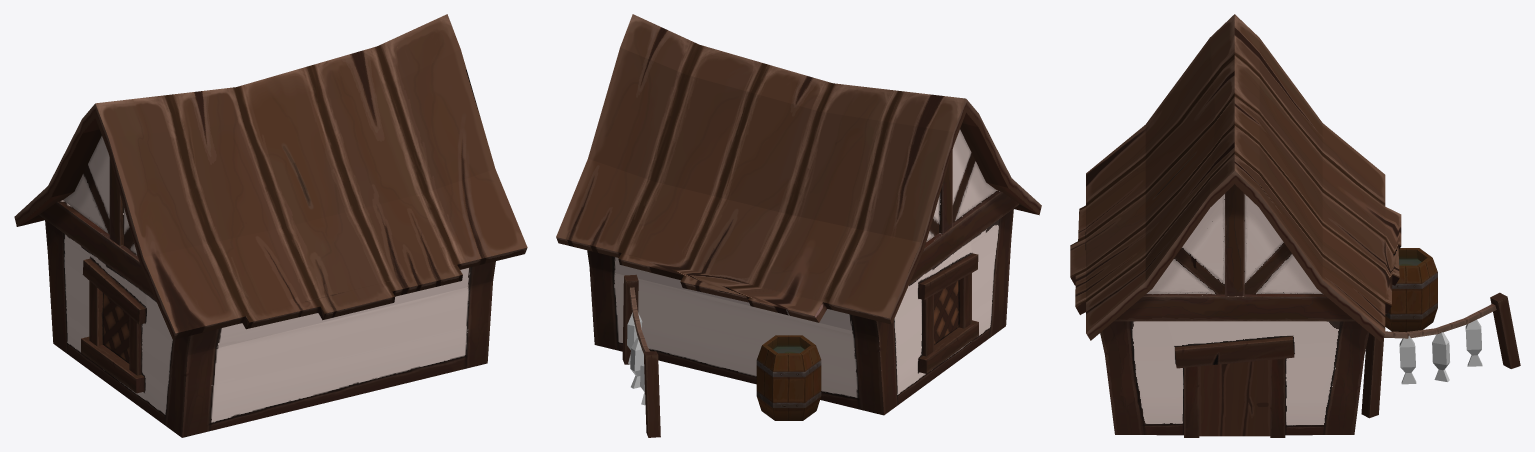
Rendered from FishHouseReadySceneLOAD.fbx.
3 renders of one model, left to right at view 1: azimuth 30°, elevation 25°; view 2: azimuth 150°, elevation 25°; view 3: azimuth 270°, elevation 25°, orthographic. The views are drawn at different scales.
Parts seen in each view (by area): view 1: Cube.000, Cube.004; view 2: Cube.000, Cube.004, Cylinder, Cube, Cube.002; view 3: Cube.000, Cube.004, Cube.005, Cube, Cylinder, Cube.002, Cube.001, Cube.003.
Boxes of the visible parts, x1,y1,x2,y2 form: Cube.000: [14, 14, 527, 339]; Cube.004: [45, 219, 495, 437]; Cube.000: [556, 14, 1041, 324]; Cube.004: [587, 209, 1013, 415]; Cylinder: [756, 335, 821, 420]; Cube: [622, 274, 660, 437]; Cube.002: [630, 337, 643, 388]; Cube.000: [1070, 14, 1401, 341]; Cube.004: [1100, 321, 1369, 437]; Cube.005: [1199, 360, 1270, 436]; Cube: [1361, 292, 1520, 418]; Cylinder: [1385, 248, 1437, 331]; Cube.002: [1432, 332, 1449, 381]; Cube.001: [1399, 336, 1416, 384]; Cube.003: [1465, 319, 1482, 366].
Size of the model in its own units: 385 by 311 by 459.
